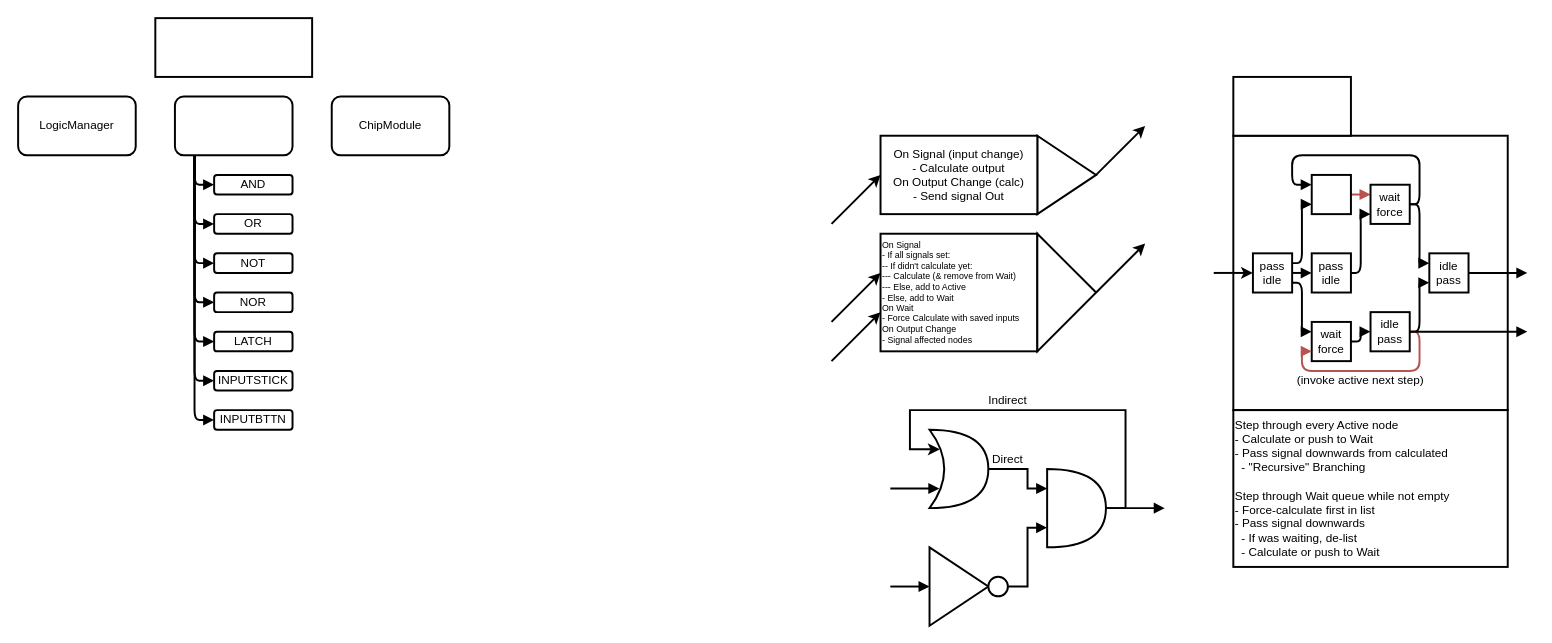
Image size: 1552x643. Some labels were removed from this diagram. Each missing label, with the box of its shape:
Active List... Wait List... ... Wait-N List...: (1232, 75, 1351, 136)
LastCycle ActiveChangePending IsWaiting InputsReceivedThisCycle: (154, 17, 313, 77)
LogicNode: (173, 95, 293, 156)
wait pass: (1310, 173, 1351, 215)
